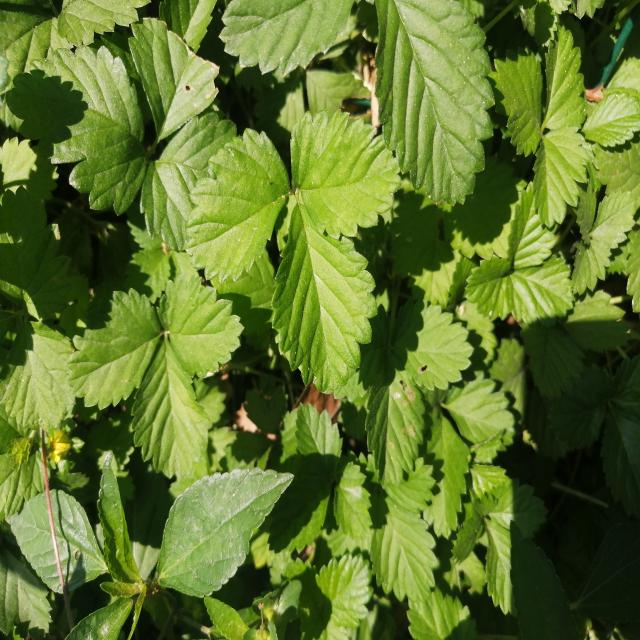Mock_strawberry: (207, 97, 393, 390), (78, 283, 236, 467)
